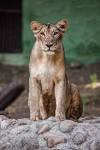lion: (26, 18, 84, 120)
